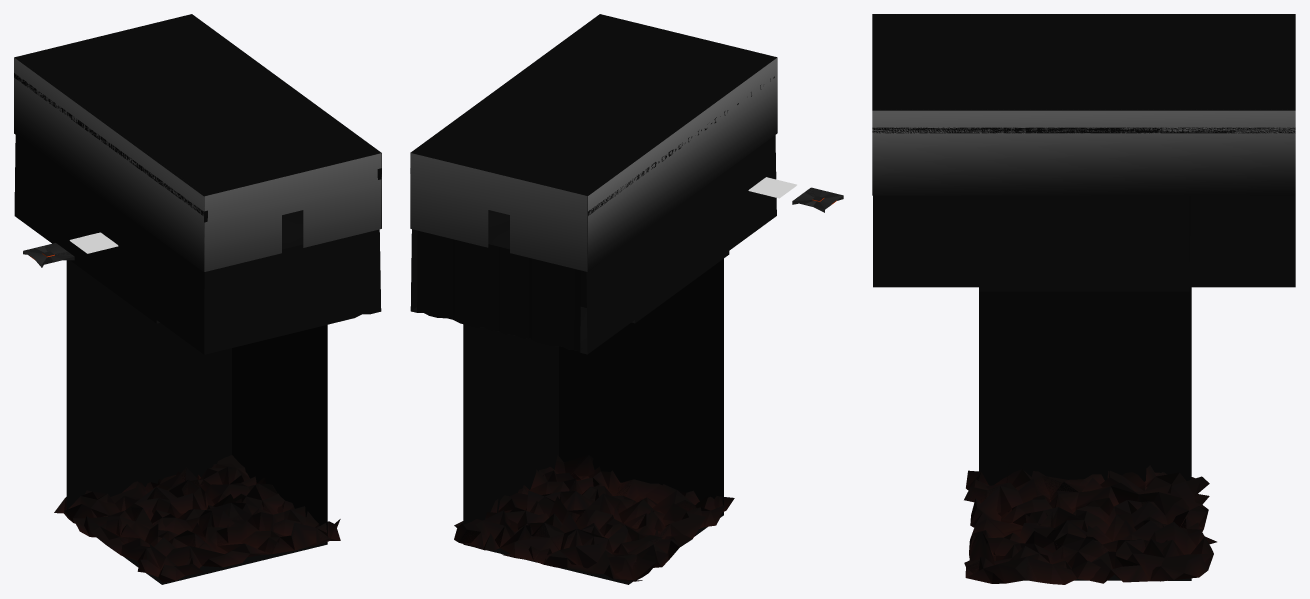
File: hallwayRoom.fbx
The picture shows the model from 3 angles, left to right: view 1: azimuth 30°, elevation 25°; view 2: azimuth 150°, elevation 25°; view 3: azimuth 270°, elevation 25°; orthographic projection. The views are drawn at different scales.
Parts seen in each view (by area): view 1: deathFloor, roof.004, floor.004, wall2, wall1.001, underwall1, floor.003, visiblePlatform, invisiblePlatform; view 2: deathFloor, roof.004, floor.003, wall2, wall1.002, underwall1, floor.004, visiblePlatform, invisiblePlatform; view 3: deathFloor, roof.004, wall1, underwall2, floor.003, floor.004.
Part boxes in pixels (bbox=[...]): deathFloor: bbox=[54, 260, 340, 584]; roof.004: bbox=[14, 14, 381, 196]; floor.004: bbox=[156, 210, 381, 354]; wall2: bbox=[14, 57, 207, 272]; wall1.001: bbox=[204, 153, 381, 271]; underwall1: bbox=[62, 169, 159, 323]; floor.003: bbox=[14, 135, 61, 246]; visiblePlatform: bbox=[23, 243, 74, 267]; invisiblePlatform: bbox=[69, 232, 118, 253]; deathFloor: bbox=[454, 258, 734, 584]; roof.004: bbox=[410, 14, 776, 195]; floor.003: bbox=[410, 210, 634, 354]; wall2: bbox=[586, 57, 777, 271]; wall1.002: bbox=[410, 153, 587, 271]; underwall1: bbox=[631, 169, 729, 323]; floor.004: bbox=[729, 135, 776, 250]; visiblePlatform: bbox=[792, 187, 843, 212]; invisiblePlatform: bbox=[748, 177, 796, 198]; deathFloor: bbox=[964, 287, 1216, 584]; roof.004: bbox=[872, 14, 1295, 110]; wall1: bbox=[872, 109, 1295, 195]; underwall2: bbox=[979, 195, 1189, 291]; floor.003: bbox=[1189, 195, 1295, 287]; floor.004: bbox=[873, 195, 978, 287].
Size of the model in its own units: 740 by 985 by 797.
2 materials, 1 textured.
